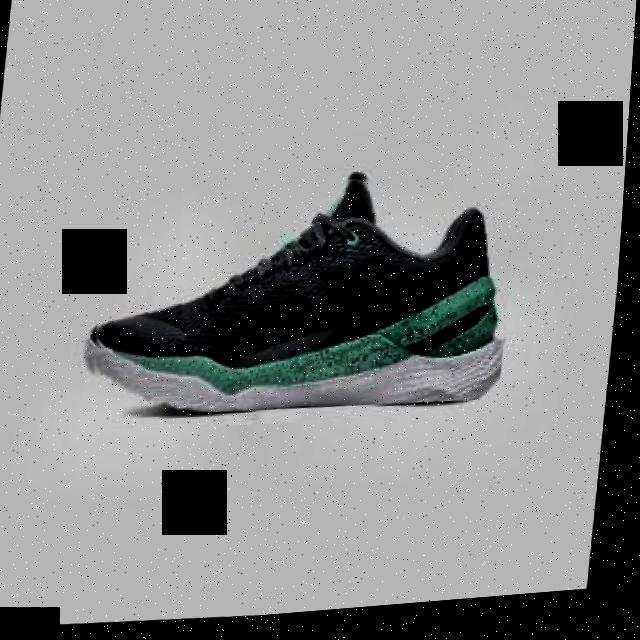shoe: (86, 159, 525, 434)
